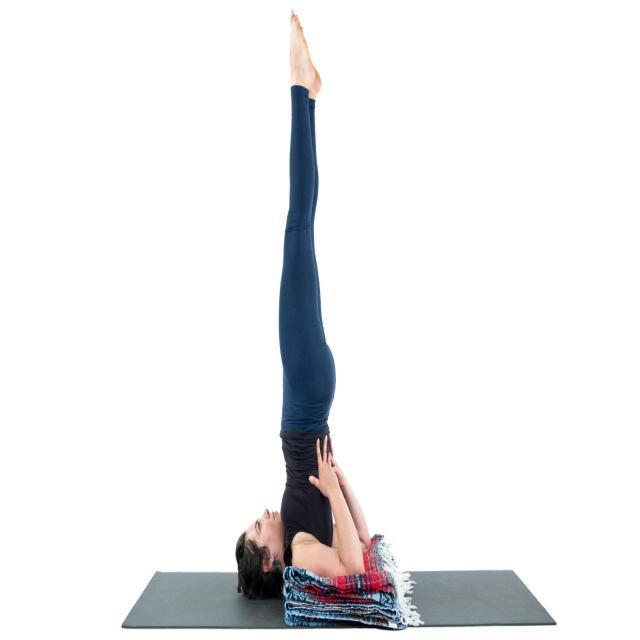yoga-pose shoulderstand: (240, 7, 376, 590)
